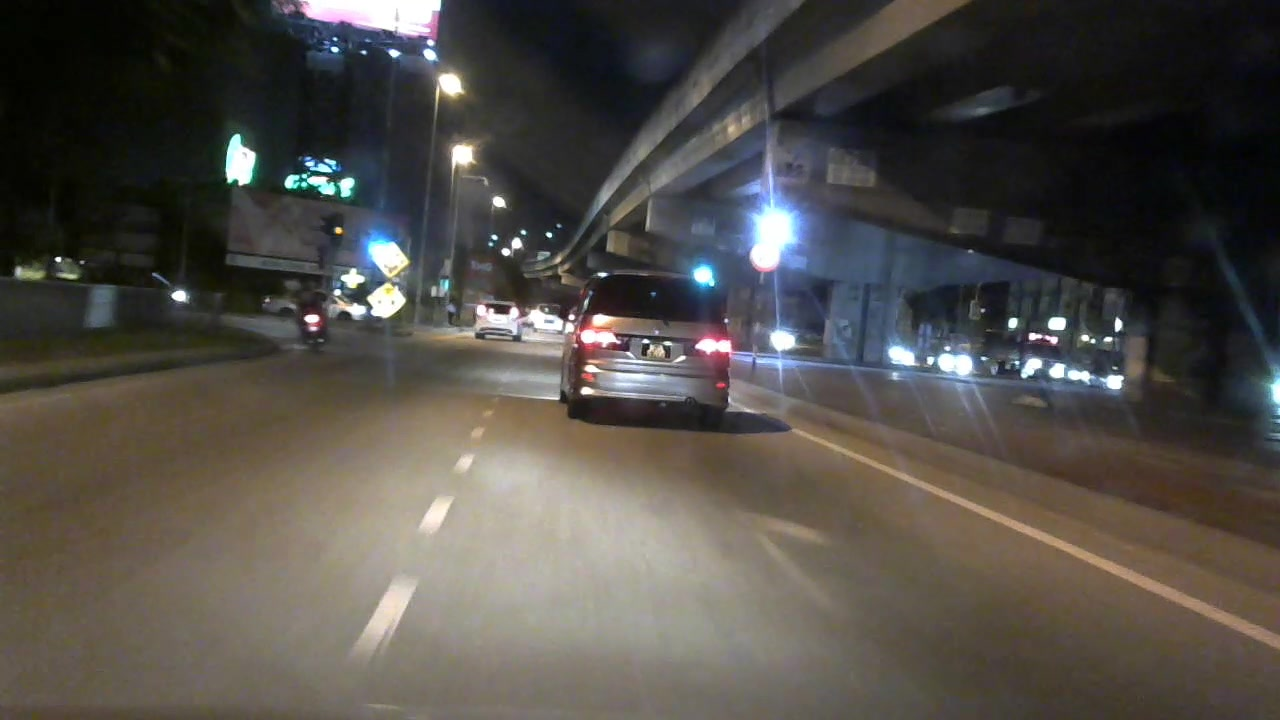Car: (549, 265, 745, 419), (471, 301, 524, 345), (935, 344, 979, 375), (533, 297, 564, 338)
